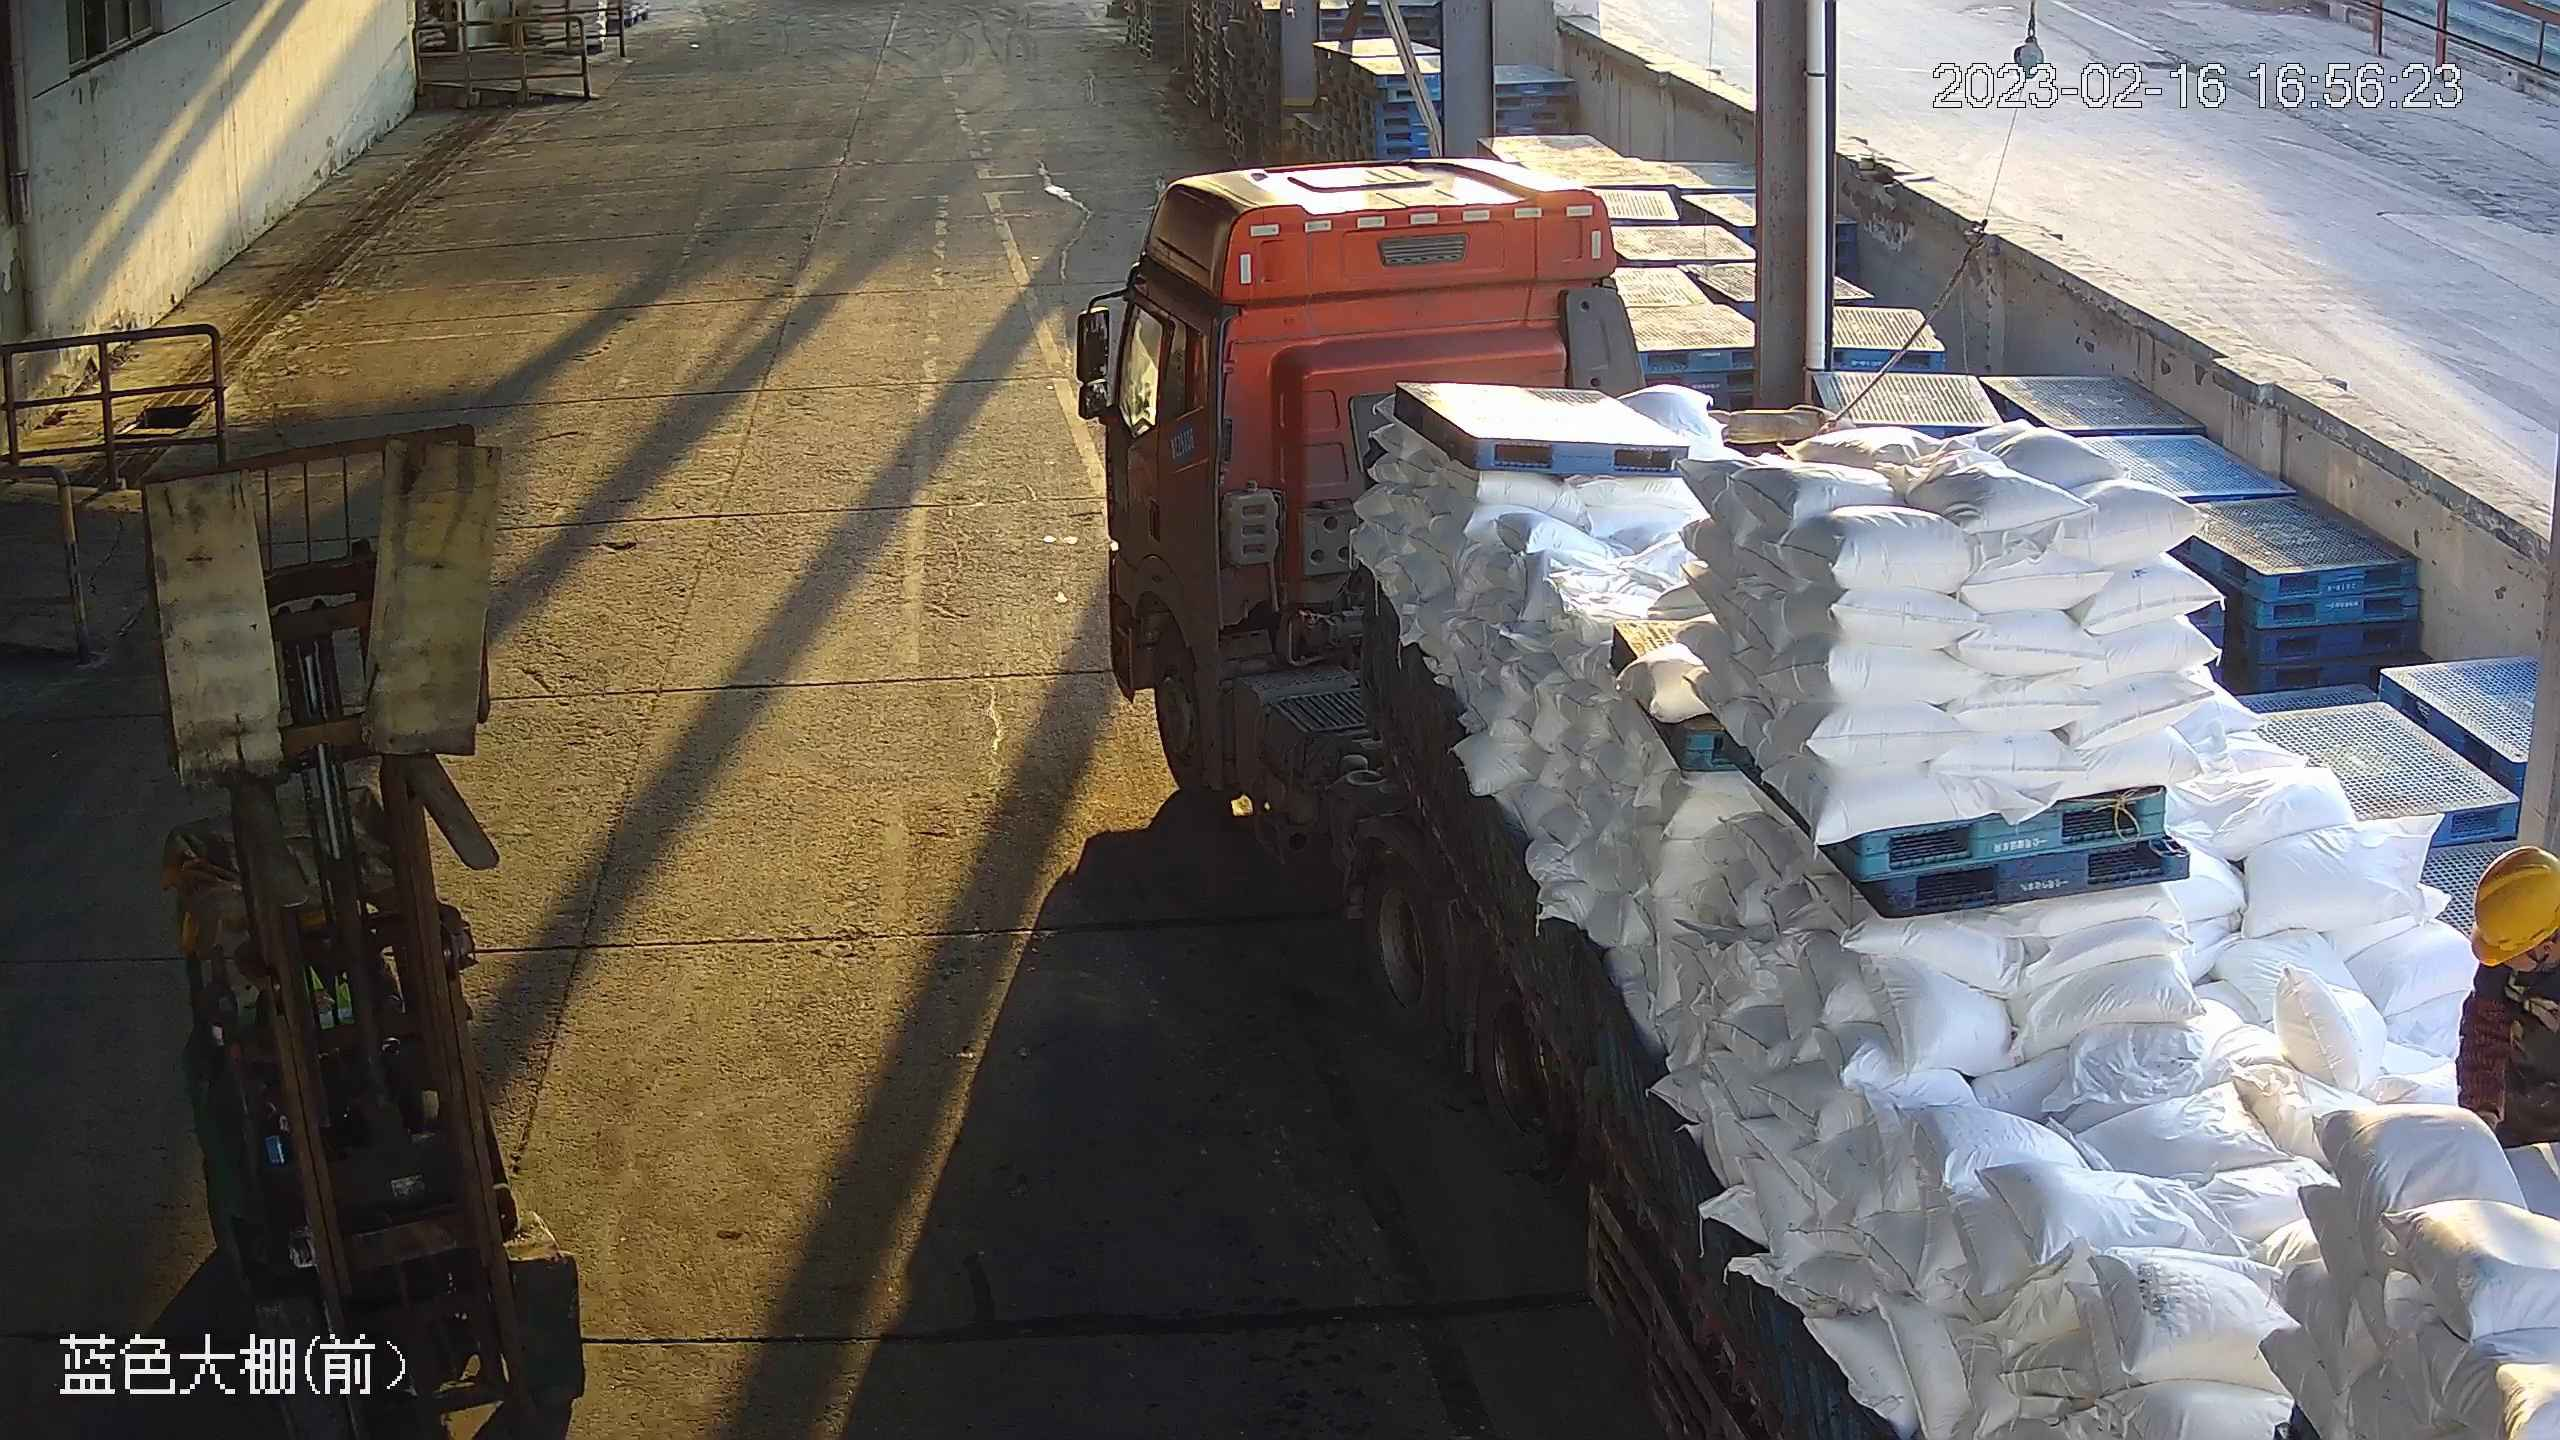helmet: (2463, 833, 2560, 956)
truck: (1018, 130, 2560, 1440)
